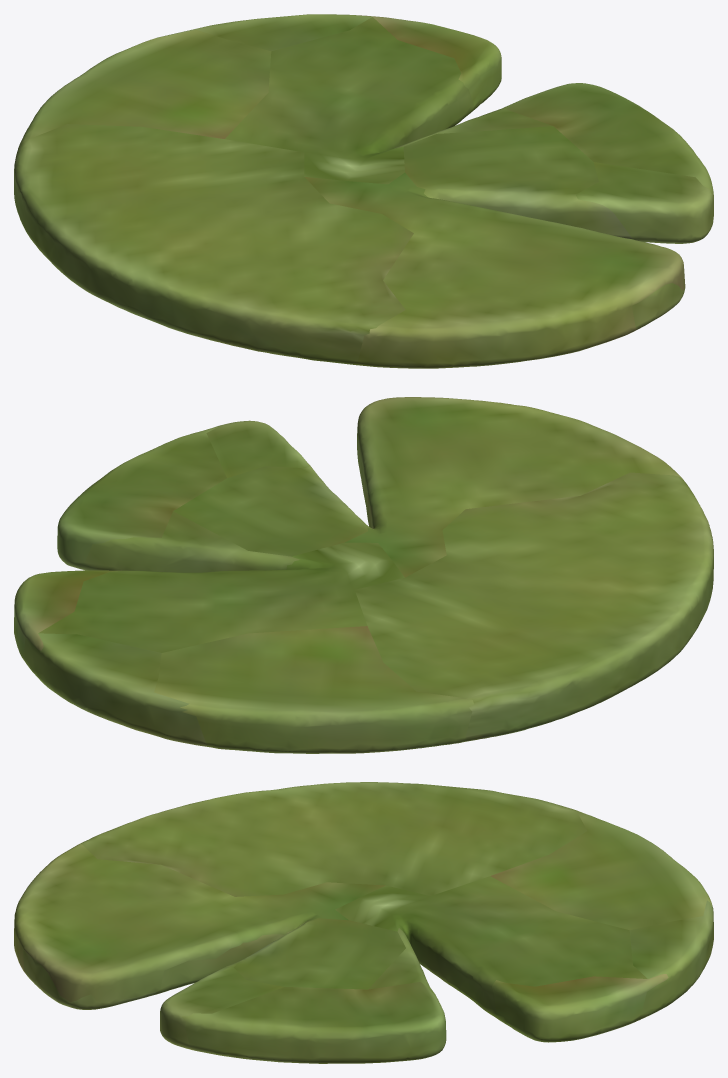
File: nenufar.glb
The picture shows the model from 3 angles, top to bottom: view 1: azimuth 30°, elevation 25°; view 2: azimuth 150°, elevation 25°; view 3: azimuth 270°, elevation 25°; orthographic projection. The views are drawn at different scales.
Visible parts, largest first — view 1: nenufar_malla; view 2: nenufar_malla; view 3: nenufar_malla.
Part boxes in pixels (<box>): nenufar_malla: <box>14,14,713,368</box>; nenufar_malla: <box>14,397,713,753</box>; nenufar_malla: <box>14,782,713,1063</box>.
Bounding box in the file's own units: 0.1968 × 0.0139 × 0.2317.
1 material, 1 textured.
